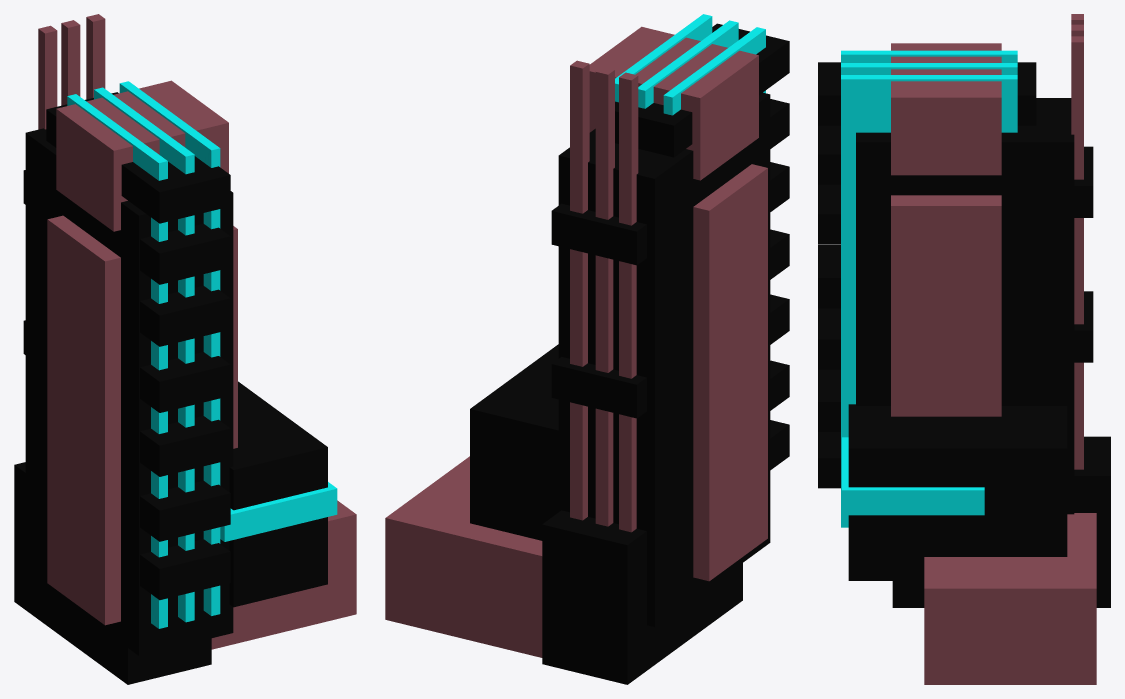
Rendered from buyilding 1.fbx.
3 views of the same model, side by side, from view 1: azimuth 30°, elevation 25°; view 2: azimuth 150°, elevation 25°; view 3: azimuth 270°, elevation 25° (orthographic). The views are drawn at different scales.
Visible parts, largest first — view 1: pCube82, pCube81, pCube88, pCube95, pCube79, pCube83, pCube96, pCube84, pCube87, pCube86, pCube102, pCube97 (+8 smaller); view 2: pCube82, pCube81, pCube83, pCube79, pCube88, pCube95, pCube91, pCube92, pCube90, pCube96, pCube94, pCube93 (+9 smaller); view 3: pCube82, pCube88, pCube81, pCube83, pCube95, pCube87, pCube79, pCube89, pCube92, pCube96, pCube84, pCube86 (+8 smaller).
Part boxes in pixels (x1=…): pCube82: x1=25, y1=128, x2=233, y2=655; pCube81: x1=47, y1=215, x2=237, y2=625; pCube88: x1=229, y1=381, x2=327, y2=607; pCube95: x1=56, y1=80, x2=228, y2=231; pCube79: x1=14, y1=462, x2=211, y2=684; pCube83: x1=211, y1=500, x2=356, y2=649; pCube96: x1=46, y1=92, x2=230, y2=223; pCube84: x1=67, y1=94, x2=167, y2=628; pCube87: x1=119, y1=81, x2=220, y2=615; pCube86: x1=94, y1=87, x2=194, y2=622; pCube102: x1=140, y1=539, x2=230, y2=600; pCube97: x1=140, y1=223, x2=230, y2=284; pCube82: x1=558, y1=92, x2=770, y2=626; pCube81: x1=693, y1=164, x2=767, y2=581; pCube83: x1=385, y1=456, x2=542, y2=657; pCube79: x1=542, y1=510, x2=742, y2=684; pCube88: x1=470, y1=344, x2=558, y2=540; pCube95: x1=589, y1=26, x2=758, y2=180; pCube91: x1=595, y1=67, x2=614, y2=526; pCube92: x1=570, y1=60, x2=589, y2=520; pCube90: x1=619, y1=72, x2=638, y2=532; pCube96: x1=615, y1=23, x2=789, y2=157; pCube94: x1=551, y1=203, x2=646, y2=265; pCube93: x1=551, y1=357, x2=646, y2=418; pCube82: x1=856, y1=98, x2=1074, y2=514; pCube88: x1=848, y1=404, x2=1067, y2=580; pCube81: x1=891, y1=195, x2=1001, y2=416; pCube83: x1=924, y1=513, x2=1096, y2=684; pCube95: x1=891, y1=43, x2=1001, y2=175; pCube87: x1=841, y1=75, x2=1017, y2=527; pCube79: x1=892, y1=436, x2=1110, y2=607; pCube89: x1=842, y1=437, x2=984, y2=515; pCube92: x1=1071, y1=36, x2=1083, y2=469; pCube96: x1=818, y1=62, x2=1036, y2=125; pCube84: x1=841, y1=50, x2=1017, y2=62; pCube86: x1=841, y1=63, x2=1017, y2=74.
Bounding box in the file's own units: 6.2 × 12.83 × 6.08.
